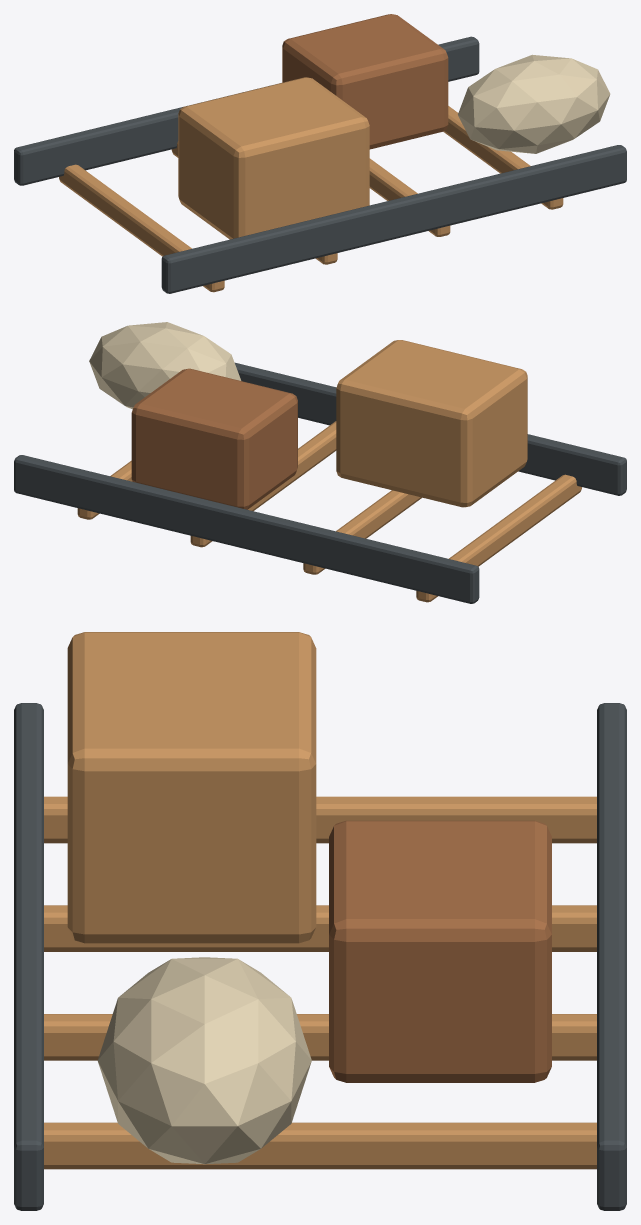
Rendered from module_cargo_rack_v01.glb.
3 views of the same model, one above another, from view 1: azimuth 30°, elevation 25°; view 2: azimuth 150°, elevation 25°; view 3: azimuth 270°, elevation 25° (orthographic). The views are drawn at different scales.
Visible parts, largest first — view 1: GEO_CargoCrate_A, GEO_CargoRail, GEO_CargoCrate_B, GEO_CargoRoll, GEO_CargoRail.001, GEO_CargoSlat, GEO_CargoSlat.003, GEO_CargoSlat.002; view 2: GEO_CargoCrate_A, GEO_CargoRail.001, GEO_CargoCrate_B, GEO_CargoRoll, GEO_CargoRail, GEO_CargoSlat, GEO_CargoSlat.001, GEO_CargoSlat.002, GEO_CargoSlat.003; view 3: GEO_CargoCrate_A, GEO_CargoCrate_B, GEO_CargoRoll, GEO_CargoSlat.003, GEO_CargoRail, GEO_CargoRail.001, GEO_CargoSlat, GEO_CargoSlat.001, GEO_CargoSlat.002.
Part boxes in pixels (left/top/right/bottom): GEO_CargoCrate_A: left=178, top=77, right=369, bottom=239; GEO_CargoRail: left=161, top=145, right=626, bottom=293; GEO_CargoCrate_B: left=282, top=14, right=448, bottom=149; GEO_CargoRoll: left=458, top=54, right=610, bottom=153; GEO_CargoRail.001: left=14, top=36, right=479, bottom=185; GEO_CargoSlat: left=59, top=164, right=224, bottom=292; GEO_CargoSlat.003: left=443, top=106, right=563, bottom=209; GEO_CargoSlat.002: left=369, top=158, right=450, bottom=236; GEO_CargoCrate_A: left=336, top=340, right=527, bottom=507; GEO_CargoRail.001: left=14, top=455, right=479, bottom=603; GEO_CargoCrate_B: left=131, top=368, right=297, bottom=509; GEO_CargoRoll: left=89, top=322, right=241, bottom=409; GEO_CargoRail: left=235, top=362, right=626, bottom=495; GEO_CargoSlat: left=416, top=474, right=581, bottom=602; GEO_CargoSlat.001: left=303, top=490, right=421, bottom=574; GEO_CargoSlat.002: left=190, top=421, right=336, bottom=547; GEO_CargoSlat.003: left=77, top=460, right=132, bottom=519; GEO_CargoCrate_A: left=67, top=632, right=316, bottom=943; GEO_CargoCrate_B: left=329, top=820, right=551, bottom=1082; GEO_CargoRoll: left=97, top=957, right=311, bottom=1164; GEO_CargoSlat.003: left=44, top=1122, right=596, bottom=1169; GEO_CargoRail: left=14, top=703, right=43, bottom=1210; GEO_CargoRail.001: left=597, top=703, right=626, bottom=1210; GEO_CargoSlat: left=44, top=796, right=596, bottom=843; GEO_CargoSlat.001: left=44, top=905, right=596, bottom=951; GEO_CargoSlat.002: left=44, top=1014, right=596, bottom=1060.
Size of the model in its own units: 2.57 by 0.63 by 1.43.
